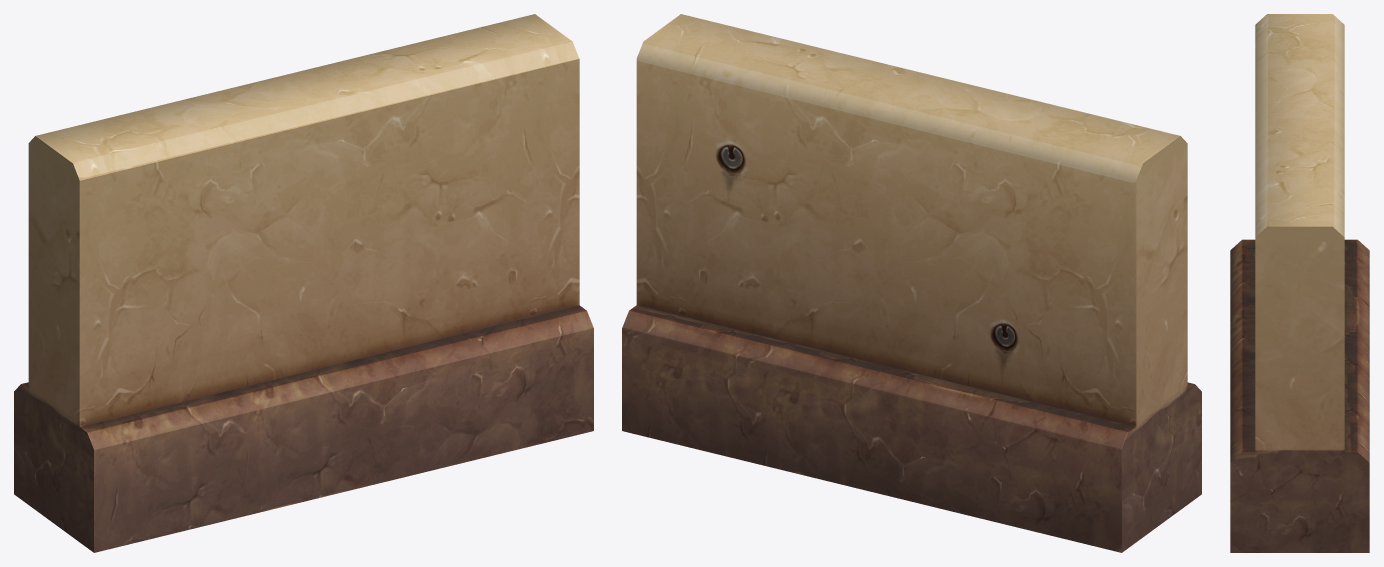
File: DE_House_Mod_Part_32.fbx
3 renders of one model, left to right at view 1: azimuth 30°, elevation 25°; view 2: azimuth 150°, elevation 25°; view 3: azimuth 270°, elevation 25°, orthographic. The views are drawn at different scales.
Parts seen in each view (by area): view 1: DE_House_Mod_Part_32; view 2: DE_House_Mod_Part_32; view 3: DE_House_Mod_Part_32.
Boxes of the visible parts, left/top/right/bottom form: DE_House_Mod_Part_32: left=14, top=14, right=593, bottom=552; DE_House_Mod_Part_32: left=622, top=14, right=1201, bottom=552; DE_House_Mod_Part_32: left=1230, top=14, right=1369, bottom=552.
Size of the model in its own units: 5.06 by 3.62 by 1.4.
